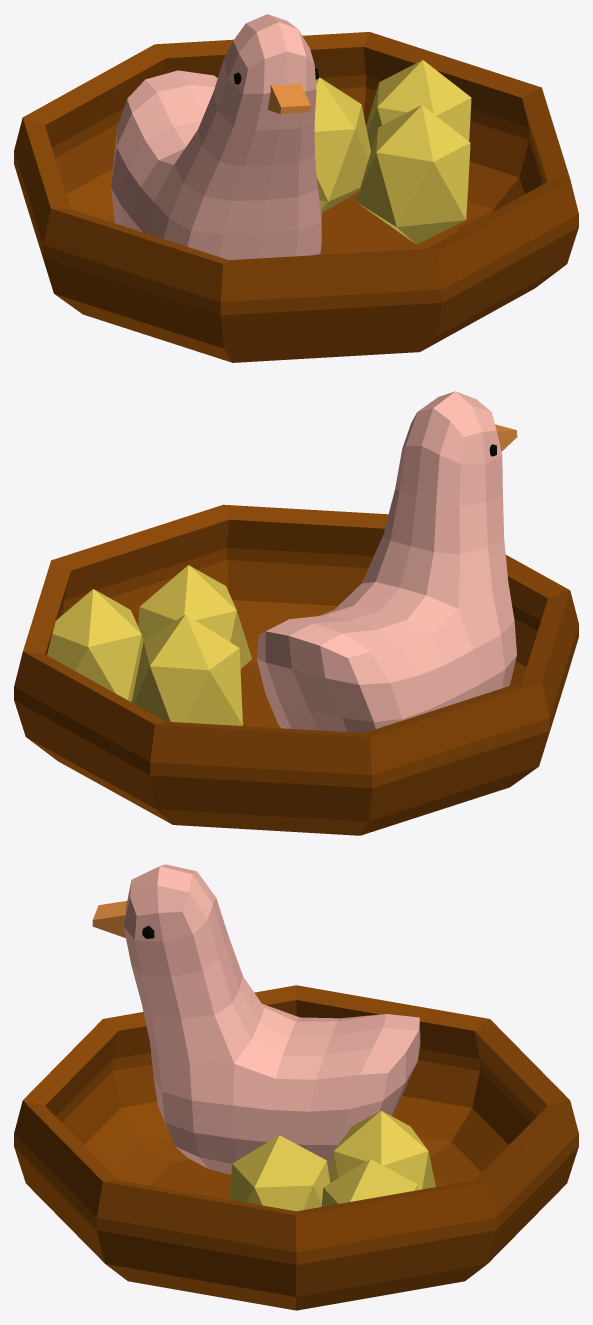
The model's file is bird.glb.
3 renders of one model, top to bottom at view 1: azimuth 30°, elevation 25°; view 2: azimuth 150°, elevation 25°; view 3: azimuth 270°, elevation 25°, orthographic. The views are drawn at different scales.
Parts seen in each view (by area): view 1: birdHome, bird, egg; view 2: birdHome, bird, egg; view 3: birdHome, bird, egg.
Boxes of the visible parts, bbox=[...] form: birdHome: bbox=[14, 32, 578, 362]; bird: bbox=[111, 14, 321, 260]; egg: bbox=[314, 60, 471, 244]; birdHome: bbox=[14, 504, 578, 835]; bird: bbox=[256, 391, 517, 732]; egg: bbox=[47, 565, 251, 725]; birdHome: bbox=[14, 985, 578, 1310]; bird: bbox=[92, 864, 420, 1174]; egg: bbox=[229, 1110, 435, 1211].
Bounding box in the file's own units: 1.71 × 1.05 × 1.71.
